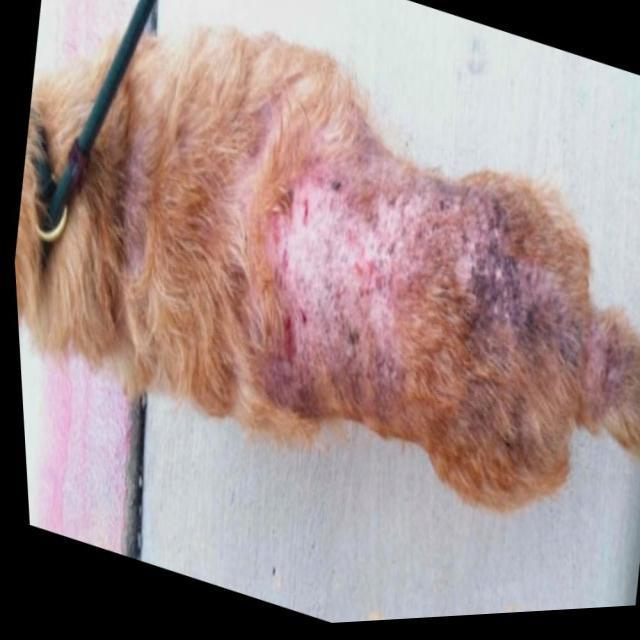allergic dermatitis: (231, 168, 467, 402)
